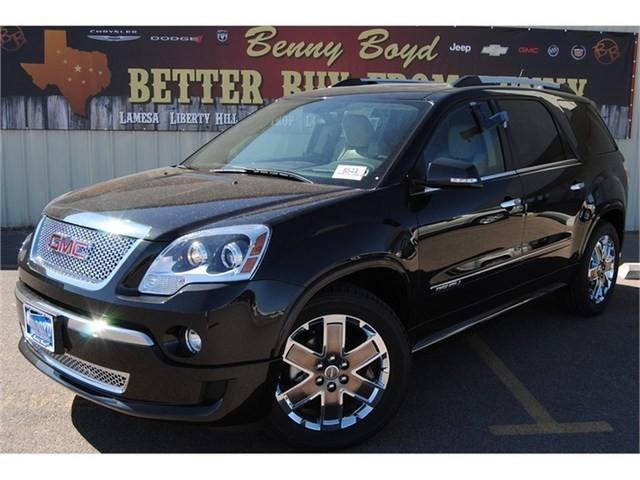GMC: (42, 226, 105, 266)
